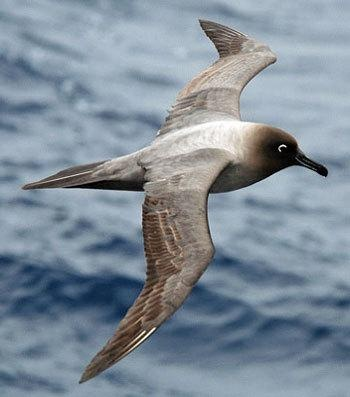bird: (19, 15, 328, 387)
